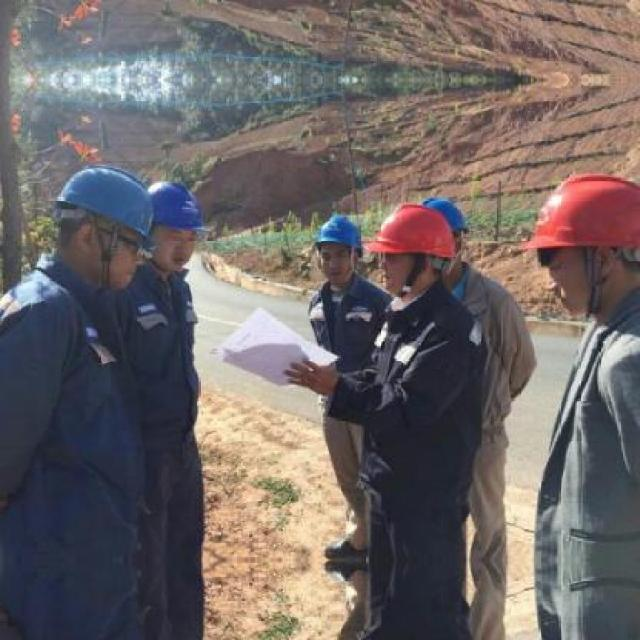helmet: (519, 167, 638, 316), (61, 163, 161, 280), (369, 205, 456, 297), (140, 177, 208, 278), (310, 208, 364, 284)
